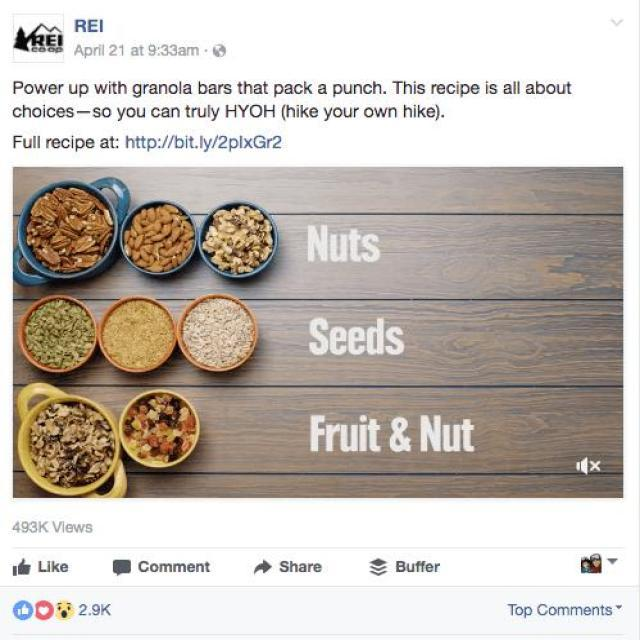0: (12, 521, 21, 534)
5: (21, 520, 29, 534), (92, 602, 100, 616), (148, 44, 156, 56)
A: (316, 82, 328, 96), (74, 44, 85, 56), (525, 84, 536, 95), (183, 84, 193, 95), (208, 84, 218, 95), (100, 138, 109, 150), (254, 84, 263, 95), (284, 84, 293, 95), (503, 84, 512, 95), (161, 108, 170, 119), (298, 562, 307, 572), (150, 84, 158, 95), (130, 46, 138, 56), (178, 46, 186, 56)
B: (534, 80, 546, 94), (175, 134, 184, 149), (198, 80, 207, 94), (397, 560, 406, 574)
C: (536, 603, 548, 616), (60, 138, 72, 149), (138, 560, 149, 572), (11, 107, 22, 118), (446, 84, 456, 95), (150, 107, 160, 118), (363, 84, 372, 95), (46, 107, 55, 118), (294, 84, 302, 95), (31, 46, 38, 52)
D: (367, 318, 385, 355)
E: (329, 327, 348, 355), (348, 327, 366, 355), (86, 19, 98, 33), (308, 106, 320, 120), (84, 138, 96, 150), (470, 82, 480, 96), (46, 34, 57, 45), (56, 107, 67, 118), (426, 106, 436, 118), (436, 84, 446, 95), (48, 83, 57, 94), (52, 138, 61, 149), (187, 564, 196, 574), (313, 562, 322, 572), (583, 606, 592, 616), (425, 563, 434, 572), (66, 524, 74, 534), (60, 564, 68, 574)
F: (310, 416, 326, 452), (13, 134, 22, 149), (420, 560, 426, 572), (416, 560, 420, 572)
G: (253, 134, 266, 149), (132, 84, 142, 98)
H: (124, 134, 136, 148), (264, 104, 276, 118), (22, 103, 32, 118), (226, 104, 236, 118), (373, 80, 382, 94), (403, 80, 412, 94), (286, 104, 295, 118), (118, 80, 127, 94), (403, 104, 412, 118), (244, 80, 252, 94), (290, 561, 298, 572)
I: (359, 415, 367, 451), (61, 521, 66, 534), (57, 34, 62, 46), (42, 103, 46, 118), (100, 19, 104, 33), (413, 80, 417, 94), (486, 80, 490, 94), (296, 104, 300, 118), (413, 104, 417, 118), (70, 135, 74, 149), (456, 80, 459, 94), (185, 135, 188, 148), (109, 81, 112, 94), (47, 561, 50, 572), (414, 104, 416, 118), (99, 44, 101, 56)
K: (303, 80, 314, 94), (38, 520, 49, 534), (101, 603, 112, 616), (300, 104, 309, 118), (418, 104, 426, 118), (52, 560, 60, 572)
L: (38, 560, 48, 573), (516, 80, 520, 94), (37, 135, 40, 149), (200, 135, 203, 149), (513, 81, 516, 94), (102, 44, 105, 56), (33, 136, 36, 148), (180, 80, 182, 94), (208, 104, 210, 118), (240, 135, 242, 149)
M: (557, 606, 570, 616), (187, 46, 199, 56), (159, 563, 172, 572), (173, 563, 186, 572), (570, 606, 582, 615)
N: (420, 414, 442, 452), (307, 226, 329, 262), (352, 84, 362, 95), (159, 84, 168, 95), (171, 107, 180, 118), (388, 107, 397, 118), (196, 562, 204, 572), (592, 606, 600, 616)
O: (250, 104, 262, 118), (23, 84, 34, 95), (168, 84, 178, 95), (546, 84, 556, 95), (32, 107, 42, 118), (126, 107, 136, 118), (333, 107, 343, 118), (363, 107, 373, 118), (514, 606, 524, 616), (102, 108, 111, 118), (548, 606, 556, 616), (150, 563, 158, 572), (38, 46, 46, 54), (48, 46, 56, 52)
P: (146, 138, 157, 152), (274, 84, 284, 98), (333, 84, 343, 98), (460, 84, 470, 98), (228, 138, 238, 152), (14, 81, 24, 94), (84, 46, 92, 60), (80, 84, 88, 98), (76, 138, 84, 152), (524, 606, 533, 618), (55, 46, 63, 55)
R: (327, 424, 340, 452), (32, 34, 44, 46), (76, 19, 86, 33), (434, 562, 442, 572), (142, 84, 149, 95), (430, 83, 437, 94), (190, 107, 197, 118), (353, 107, 360, 118), (266, 138, 273, 149), (217, 84, 224, 94), (307, 562, 314, 572), (58, 84, 64, 95), (46, 138, 50, 149), (94, 48, 98, 56)
S: (310, 316, 329, 356), (362, 232, 380, 262), (386, 326, 404, 354), (279, 560, 290, 573), (66, 106, 75, 118), (223, 84, 232, 95), (417, 84, 426, 95), (92, 107, 101, 118), (489, 84, 497, 95), (85, 524, 93, 534), (605, 606, 613, 616)
T: (348, 228, 362, 262), (367, 419, 381, 452), (461, 419, 475, 452), (392, 80, 404, 94), (506, 603, 517, 616), (112, 80, 118, 94), (566, 80, 572, 94), (188, 135, 194, 148), (600, 604, 606, 617), (263, 80, 268, 94), (139, 44, 144, 56), (109, 136, 114, 148), (141, 136, 146, 148), (238, 80, 242, 94), (186, 104, 190, 118), (136, 136, 140, 148), (206, 562, 210, 572)
U: (328, 234, 348, 263), (340, 425, 358, 452), (444, 424, 461, 452), (22, 138, 33, 149), (136, 106, 146, 118), (343, 83, 352, 94), (343, 107, 352, 118), (69, 84, 78, 94), (198, 107, 207, 117), (558, 83, 566, 94), (406, 562, 414, 572)
V: (52, 520, 62, 534)
W: (373, 108, 388, 119), (34, 84, 48, 95), (95, 84, 108, 94), (73, 524, 85, 534)
X: (244, 137, 253, 148)
Y: (237, 104, 250, 118), (323, 107, 332, 122), (116, 106, 125, 120), (211, 108, 220, 121), (204, 138, 212, 152)
